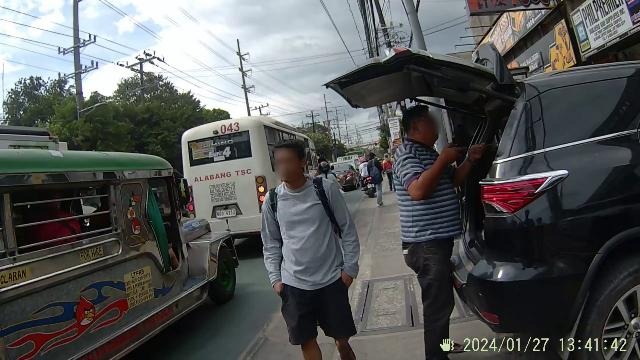car: (500, 88, 640, 360)
utility_post: (58, 0, 104, 114), (235, 30, 273, 114)
